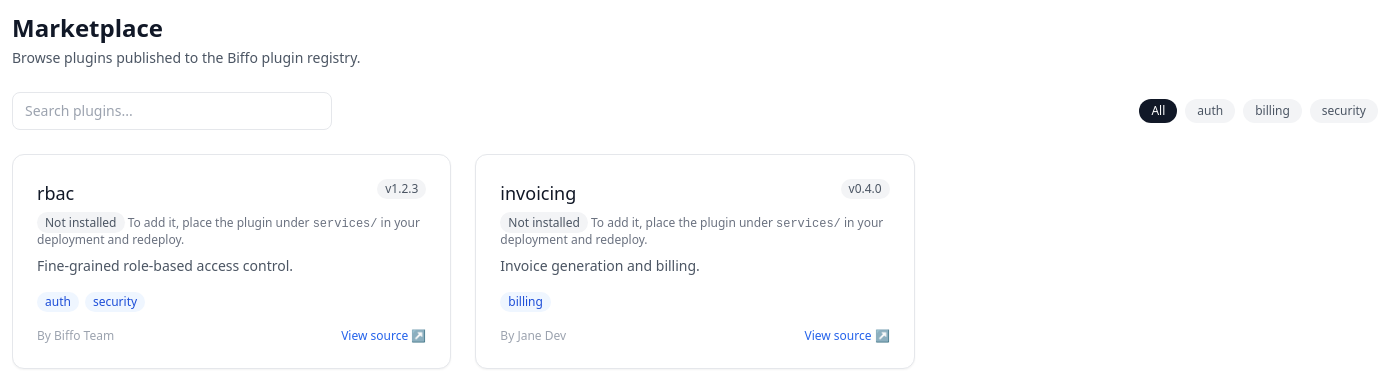
Test: MarketplacePage › shows a no-match message when search excludes every plugin
Expected: the heading "rbac" is shown, [37,179,74,207]
Type "nonexistent-plugin" into the search field labelled "Search plugins".
click(172, 111); type("nonexistent-plugin")  # box [12,92,332,130]
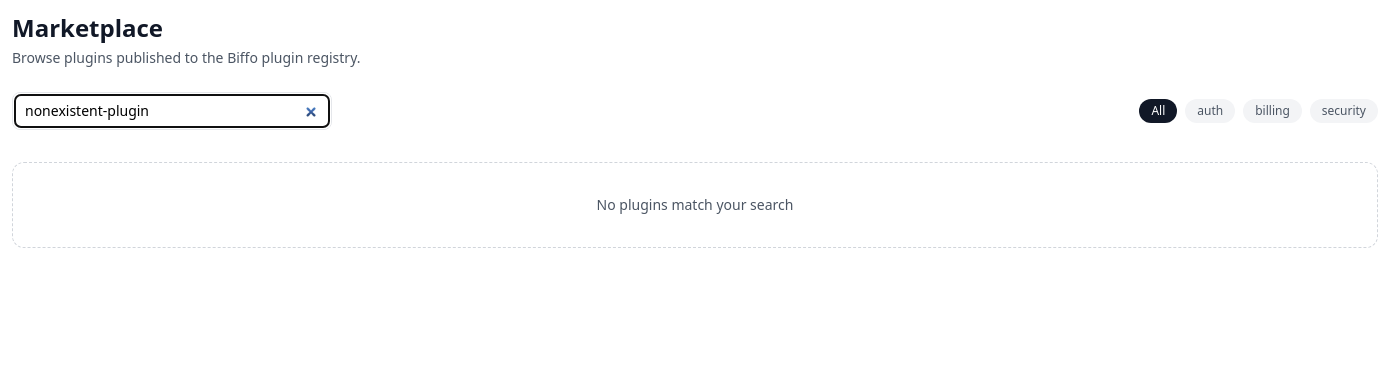
Now the text "No plugins match your search" is shown, box [597,195,794,214]
